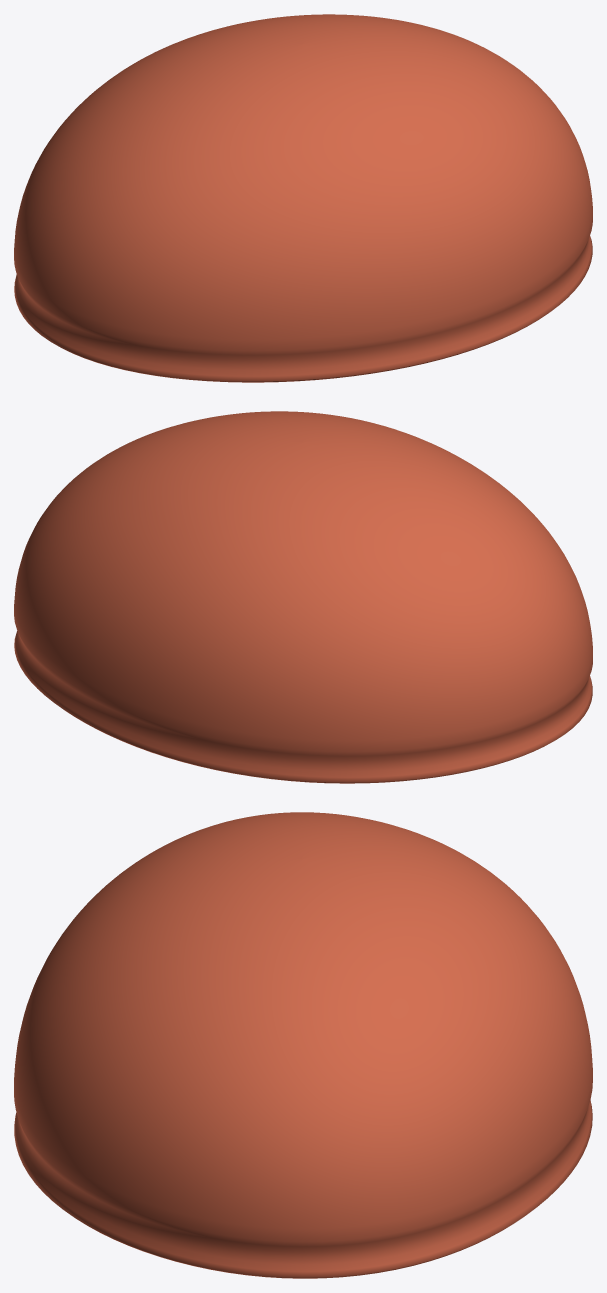
Rendered from moonstone.glb.
The picture shows the model from 3 angles, top to bottom: view 1: azimuth 30°, elevation 25°; view 2: azimuth 150°, elevation 25°; view 3: azimuth 270°, elevation 25°; orthographic projection. The views are drawn at different scales.
Visible parts, largest first — view 1: stone; view 2: stone; view 3: stone.
Boxes of the visible parts, <box> form: stone: <box>14,14,592,382</box>; stone: <box>14,411,592,783</box>; stone: <box>14,812,592,1278</box>.
Size of the model in its own units: 1.11 by 0.504 by 0.9009.
